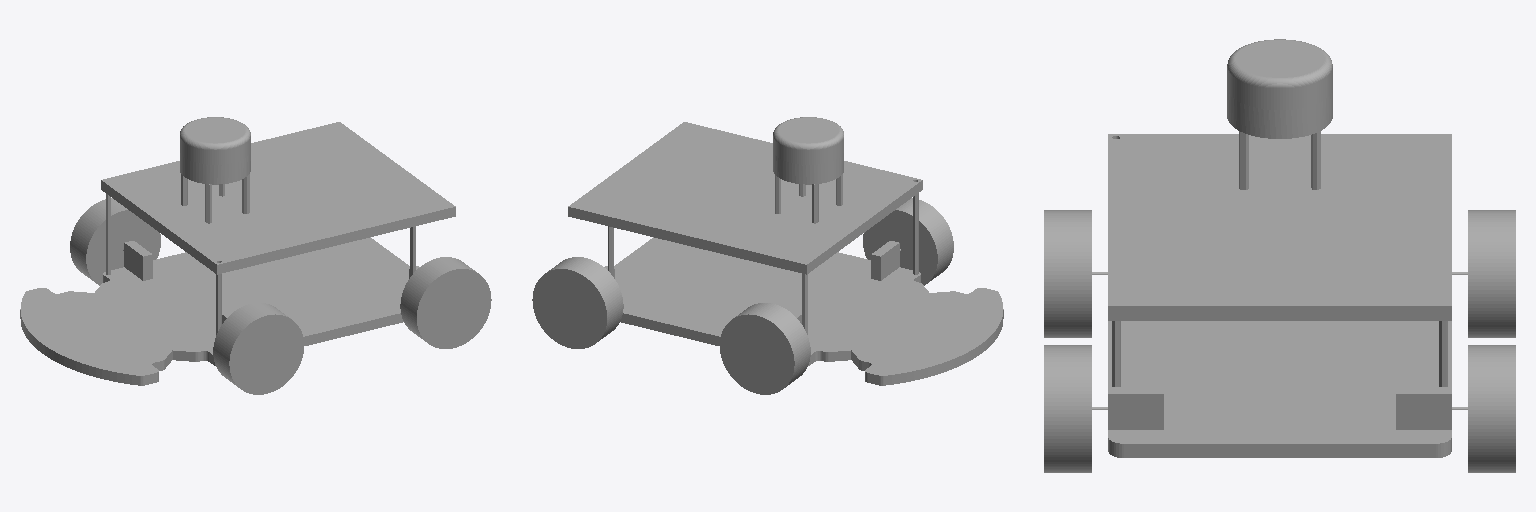
URDF robot description (fourWheelCar):
<?xml version="1.0" ?>
<!-- =================================================================================== -->
<!-- |    This document was autogenerated by xacro from urdf\fourWheelCar.xacro        | -->
<!-- |    EDITING THIS FILE BY HAND IS NOT RECOMMENDED                                 | -->
<!-- =================================================================================== -->
<robot xmlns:xacro="http://www.ros.org/wiki/xacro" name="fourWheelCar">
  <material name="silver">
    <color rgba="0.700 0.700 0.700 1.000"/>
  </material>
  <transmission name="Revolute 1_tran">
    <type>transmission_interface/SimpleTransmission</type>
    <joint name="Revolute 1">
      <hardwareInterface>hardware_interface/EffortJointInterface</hardwareInterface>
    </joint>
    <actuator name="Revolute 1_actr">
      <hardwareInterface>hardware_interface/EffortJointInterface</hardwareInterface>
      <mechanicalReduction>1</mechanicalReduction>
    </actuator>
  </transmission>
  <transmission name="Revolute 2_tran">
    <type>transmission_interface/SimpleTransmission</type>
    <joint name="Revolute 2">
      <hardwareInterface>hardware_interface/EffortJointInterface</hardwareInterface>
    </joint>
    <actuator name="Revolute 2_actr">
      <hardwareInterface>hardware_interface/EffortJointInterface</hardwareInterface>
      <mechanicalReduction>1</mechanicalReduction>
    </actuator>
  </transmission>
  <transmission name="Revolute 3_tran">
    <type>transmission_interface/SimpleTransmission</type>
    <joint name="Revolute 3">
      <hardwareInterface>hardware_interface/EffortJointInterface</hardwareInterface>
    </joint>
    <actuator name="Revolute 3_actr">
      <hardwareInterface>hardware_interface/EffortJointInterface</hardwareInterface>
      <mechanicalReduction>1</mechanicalReduction>
    </actuator>
  </transmission>
  <transmission name="Revolute 4_tran">
    <type>transmission_interface/SimpleTransmission</type>
    <joint name="Revolute 4">
      <hardwareInterface>hardware_interface/EffortJointInterface</hardwareInterface>
    </joint>
    <actuator name="Revolute 4_actr">
      <hardwareInterface>hardware_interface/EffortJointInterface</hardwareInterface>
      <mechanicalReduction>1</mechanicalReduction>
    </actuator>
  </transmission>
  <gazebo>
    <plugin name="control" filename="libgazebo_ros_control.so"/>
  </gazebo>
  <gazebo reference="base_link">
    <material>Gazebo/Silver</material>
    <mu1>0.2</mu1>
    <mu2>0.2</mu2>
    <selfCollide>true</selfCollide>
    <gravity>true</gravity>
  </gazebo>
  <gazebo reference="wheel_v1_1">
    <material>Gazebo/Silver</material>
    <mu1>0.2</mu1>
    <mu2>0.2</mu2>
    <selfCollide>true</selfCollide>
  </gazebo>
  <gazebo reference="wheel_v1__1__1">
    <material>Gazebo/Silver</material>
    <mu1>0.2</mu1>
    <mu2>0.2</mu2>
    <selfCollide>true</selfCollide>
  </gazebo>
  <gazebo reference="wheel_v1__2__1">
    <material>Gazebo/Silver</material>
    <mu1>0.2</mu1>
    <mu2>0.2</mu2>
    <selfCollide>true</selfCollide>
  </gazebo>
  <gazebo reference="wheel_v1__3__1">
    <material>Gazebo/Silver</material>
    <mu1>0.2</mu1>
    <mu2>0.2</mu2>
    <selfCollide>true</selfCollide>
  </gazebo>
  <gazebo reference="lidar_v1_1">
    <material>Gazebo/Silver</material>
    <mu1>0.2</mu1>
    <mu2>0.2</mu2>
    <selfCollide>true</selfCollide>
  </gazebo>
  <link name="base_link">
    <inertial>
      <origin xyz="-0.031141049832366353 9.242377183248719e-06 0.050011490590469526" rpy="0 0 0"/>
      <mass value="11.13582814957309"/>
      <inertia ixx="0.069638" iyy="0.130358" izz="0.141493" ixy="1.4e-05" iyz="-4e-06" ixz="-0.009844"/>
    </inertial>
    <visual>
      <origin xyz="0 0 0" rpy="0 0 0"/>
      <geometry>
        <mesh filename="package://fourWheelCar_description/meshes/base_link.stl" scale="0.001 0.001 0.001"/>
      </geometry>
      <material name="silver"/>
    </visual>
    <collision>
      <origin xyz="0 0 0" rpy="0 0 0"/>
      <geometry>
        <mesh filename="package://fourWheelCar_description/meshes/base_link.stl" scale="0.001 0.001 0.001"/>
      </geometry>
    </collision>
  </link>
  <link name="wheel_v1_1">
    <inertial>
      <origin xyz="-1.3877787807814457e-17 -0.015000000000000041 0.0" rpy="0 0 0"/>
      <mass value="1.1837521118726337"/>
      <inertia ixx="0.000562" iyy="0.000947" izz="0.000562" ixy="-0.0" iyz="-0.0" ixz="-0.0"/>
    </inertial>
    <visual>
      <origin xyz="-0.1025 0.1175 -0.0225" rpy="0 0 0"/>
      <geometry>
        <mesh filename="package://fourWheelCar_description/meshes/wheel_v1_1.stl" scale="0.001 0.001 0.001"/>
      </geometry>
      <material name="silver"/>
    </visual>
    <collision>
      <origin xyz="-0.1025 0.1175 -0.0225" rpy="0 0 0"/>
      <geometry>
        <mesh filename="package://fourWheelCar_description/meshes/wheel_v1_1.stl" scale="0.001 0.001 0.001"/>
      </geometry>
    </collision>
  </link>
  <link name="wheel_v1__1__1">
    <inertial>
      <origin xyz="-1.3877787807814457e-17 0.014999999999999958 0.0" rpy="0 0 0"/>
      <mass value="1.1837521118726337"/>
      <inertia ixx="0.000562" iyy="0.000947" izz="0.000562" ixy="0.0" iyz="-0.0" ixz="0.0"/>
    </inertial>
    <visual>
      <origin xyz="-0.1025 -0.1175 -0.0225" rpy="0 0 0"/>
      <geometry>
        <mesh filename="package://fourWheelCar_description/meshes/wheel_v1__1__1.stl" scale="0.001 0.001 0.001"/>
      </geometry>
      <material name="silver"/>
    </visual>
    <collision>
      <origin xyz="-0.1025 -0.1175 -0.0225" rpy="0 0 0"/>
      <geometry>
        <mesh filename="package://fourWheelCar_description/meshes/wheel_v1__1__1.stl" scale="0.001 0.001 0.001"/>
      </geometry>
    </collision>
  </link>
  <link name="wheel_v1__2__1">
    <inertial>
      <origin xyz="-1.3877787807814457e-17 -0.015000000000000041 3.122502256758253e-17" rpy="0 0 0"/>
      <mass value="1.1837521118726337"/>
      <inertia ixx="0.000562" iyy="0.000947" izz="0.000562" ixy="0.0" iyz="0.0" ixz="-0.0"/>
    </inertial>
    <visual>
      <origin xyz="0.0975 0.1175 -0.0225" rpy="0 0 0"/>
      <geometry>
        <mesh filename="package://fourWheelCar_description/meshes/wheel_v1__2__1.stl" scale="0.001 0.001 0.001"/>
      </geometry>
      <material name="silver"/>
    </visual>
    <collision>
      <origin xyz="0.0975 0.1175 -0.0225" rpy="0 0 0"/>
      <geometry>
        <mesh filename="package://fourWheelCar_description/meshes/wheel_v1__2__1.stl" scale="0.001 0.001 0.001"/>
      </geometry>
    </collision>
  </link>
  <link name="wheel_v1__3__1">
    <inertial>
      <origin xyz="-1.3877787807814457e-17 0.014999999999999958 3.469446951953614e-17" rpy="0 0 0"/>
      <mass value="1.1837521118726337"/>
      <inertia ixx="0.000562" iyy="0.000947" izz="0.000562" ixy="0.0" iyz="-0.0" ixz="0.0"/>
    </inertial>
    <visual>
      <origin xyz="0.0975 -0.1175 -0.0225" rpy="0 0 0"/>
      <geometry>
        <mesh filename="package://fourWheelCar_description/meshes/wheel_v1__3__1.stl" scale="0.001 0.001 0.001"/>
      </geometry>
      <material name="silver"/>
    </visual>
    <collision>
      <origin xyz="0.0975 -0.1175 -0.0225" rpy="0 0 0"/>
      <geometry>
        <mesh filename="package://fourWheelCar_description/meshes/wheel_v1__3__1.stl" scale="0.001 0.001 0.001"/>
      </geometry>
    </collision>
  </link>
  <link name="lidar_v1_1">
    <inertial>
      <origin xyz="-1.0058283789193823e-09 0.0 0.009858499938735416" rpy="0 0 0"/>
      <mass value="0.5286905929941373"/>
      <inertia ixx="0.000159" iyy="0.000159" izz="0.000284" ixy="-0.0" iyz="-0.0" ixz="0.0"/>
    </inertial>
    <visual>
      <origin xyz="0.0675 -0.0 -0.165" rpy="0 0 0"/>
      <geometry>
        <mesh filename="package://fourWheelCar_description/meshes/lidar_v1_1.stl" scale="0.001 0.001 0.001"/>
      </geometry>
      <material name="silver"/>
    </visual>
    <collision>
      <origin xyz="0.0675 -0.0 -0.165" rpy="0 0 0"/>
      <geometry>
        <mesh filename="package://fourWheelCar_description/meshes/lidar_v1_1.stl" scale="0.001 0.001 0.001"/>
      </geometry>
    </collision>
  </link>
  <joint name="Revolute 1" type="continuous">
    <origin xyz="0.1025 -0.1175 0.0225" rpy="0 0 0"/>
    <parent link="base_link"/>
    <child link="wheel_v1_1"/>
    <axis xyz="0.0 -1.0 0.0"/>
  </joint>
  <joint name="Revolute 2" type="continuous">
    <origin xyz="0.1025 0.1175 0.0225" rpy="0 0 0"/>
    <parent link="base_link"/>
    <child link="wheel_v1__1__1"/>
    <axis xyz="0.0 1.0 0.0"/>
  </joint>
  <joint name="Revolute 3" type="continuous">
    <origin xyz="-0.0975 -0.1175 0.0225" rpy="0 0 0"/>
    <parent link="base_link"/>
    <child link="wheel_v1__2__1"/>
    <axis xyz="0.0 -1.0 0.0"/>
  </joint>
  <joint name="Revolute 4" type="continuous">
    <origin xyz="-0.0975 0.1175 0.0225" rpy="0 0 0"/>
    <parent link="base_link"/>
    <child link="wheel_v1__3__1"/>
    <axis xyz="0.0 1.0 0.0"/>
  </joint>
  <joint name="Rigid 5" type="fixed">
    <origin xyz="-0.0675 0.0 0.165" rpy="0 0 0"/>
    <parent link="base_link"/>
    <child link="lidar_v1_1"/>
  </joint>
</robot>

--- Facts derived from the render (not from the file) ---
Views: 3 orthographic renders of the robot side by side, from view 1: azimuth 30°, elevation 25°; view 2: azimuth 150°, elevation 25°; view 3: azimuth 270°, elevation 25°.
Robot: fourWheelCar — 6 links, 5 joints (4 continuous, 1 fixed); root link base_link; default pose: every joint at zero.
Visible links, largest first — view 1: base_link, wheel_v1_1, wheel_v1__2__1, wheel_v1__3__1, lidar_v1_1; view 2: base_link, wheel_v1__1__1, wheel_v1__3__1, wheel_v1__2__1, lidar_v1_1; view 3: base_link, lidar_v1_1, wheel_v1_1, wheel_v1__1__1, wheel_v1__2__1, wheel_v1__3__1.
Boxes of the visible links, left/top/right/bottom form: base_link: left=20, top=122, right=455, bottom=385; wheel_v1_1: left=400, top=257, right=491, bottom=348; wheel_v1__2__1: left=213, top=303, right=303, bottom=394; wheel_v1__3__1: left=70, top=198, right=160, bottom=285; lidar_v1_1: left=180, top=117, right=250, bottom=164; base_link: left=568, top=122, right=1003, bottom=385; wheel_v1__1__1: left=532, top=257, right=623, bottom=348; wheel_v1__3__1: left=720, top=303, right=810, bottom=394; wheel_v1__2__1: left=863, top=198, right=953, bottom=285; lidar_v1_1: left=773, top=117, right=843, bottom=164; base_link: left=1092, top=90, right=1467, bottom=457; lidar_v1_1: left=1227, top=39, right=1332, bottom=109; wheel_v1_1: left=1044, top=345, right=1091, bottom=472; wheel_v1__1__1: left=1468, top=345, right=1515, bottom=472; wheel_v1__2__1: left=1044, top=210, right=1091, bottom=337; wheel_v1__3__1: left=1468, top=210, right=1515, bottom=337.
Size in the robot's own frame: 0.3945 by 0.295 by 0.2025 metres.
6 mesh visuals loaded from 6 distinct referenced files (6 binary STL).